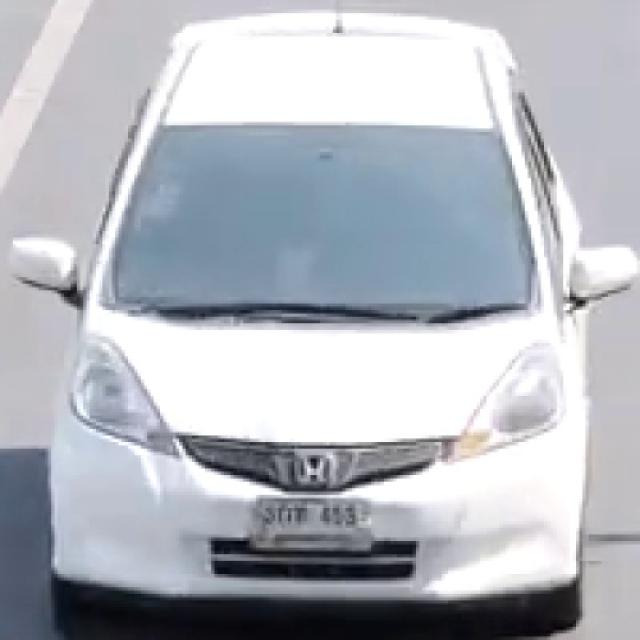plate: (248, 493, 376, 554)
